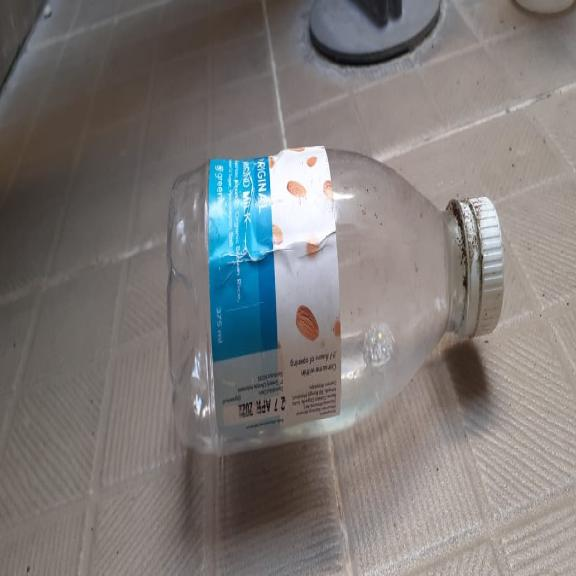Plastik: (166, 141, 505, 458)
